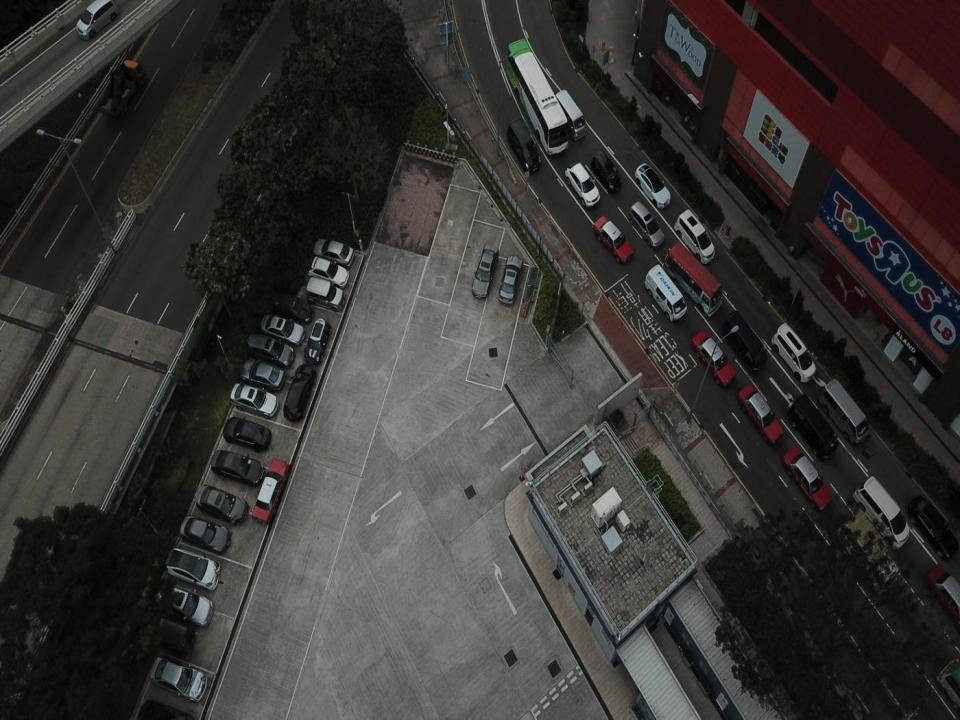bus: (506, 36, 569, 154), (662, 241, 724, 315)
car: (909, 487, 958, 567), (768, 317, 816, 387), (784, 444, 831, 510), (737, 380, 783, 445), (691, 324, 735, 390), (149, 656, 210, 703), (153, 584, 215, 624), (166, 546, 221, 591), (252, 457, 288, 524), (195, 484, 249, 528), (177, 512, 232, 552), (209, 448, 265, 486), (925, 559, 960, 618), (592, 214, 633, 263), (284, 360, 316, 421), (222, 414, 272, 451), (246, 328, 294, 366), (229, 381, 278, 418), (634, 161, 671, 209), (470, 243, 500, 302), (269, 286, 314, 324), (565, 160, 600, 208), (259, 312, 306, 347), (304, 272, 344, 312), (631, 200, 662, 247), (305, 314, 334, 363), (241, 357, 284, 389), (305, 256, 351, 285), (498, 254, 523, 305), (312, 237, 354, 266), (592, 148, 620, 191)
truck: (844, 500, 900, 594), (99, 51, 146, 118)
van: (854, 474, 908, 549), (822, 375, 871, 445), (790, 390, 835, 462), (137, 611, 196, 656), (646, 265, 687, 323), (677, 207, 714, 262), (73, 0, 117, 39), (556, 87, 586, 142), (508, 118, 538, 170)
